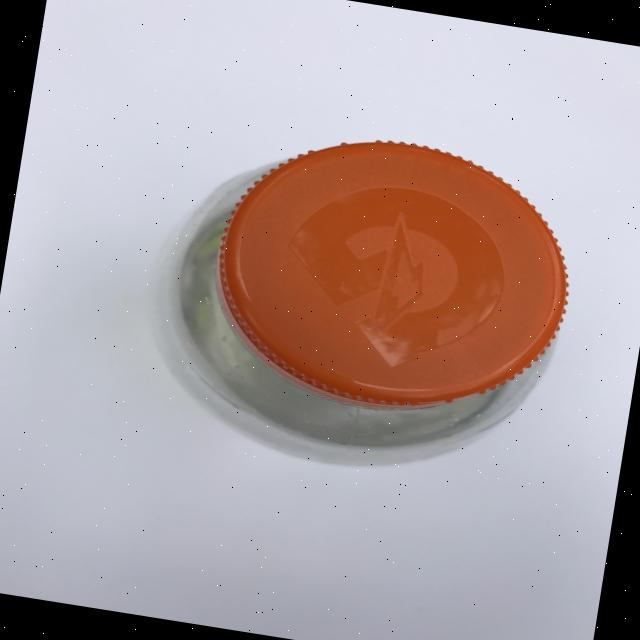plastic: (140, 107, 590, 496)
